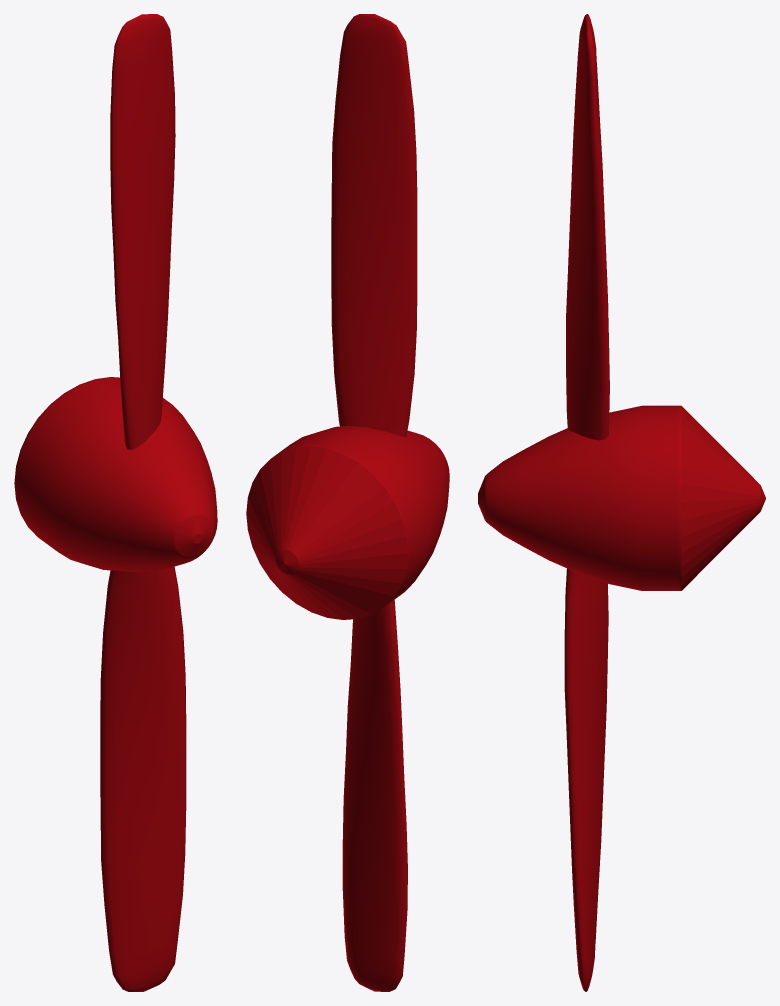
File: PropellerRED.fbx
3 renders of one model, left to right at view 1: azimuth 30°, elevation 25°; view 2: azimuth 150°, elevation 25°; view 3: azimuth 270°, elevation 25°, orthographic.
Parts seen in each view (by area): view 1: Sphere; view 2: Sphere; view 3: Sphere.
Part boxes in pixels (<box>): Sphere: <box>14,14,217,991</box>; Sphere: <box>246,14,449,991</box>; Sphere: <box>478,14,765,991</box>.
Size of the model in its own units: 161 by 933 by 251.
